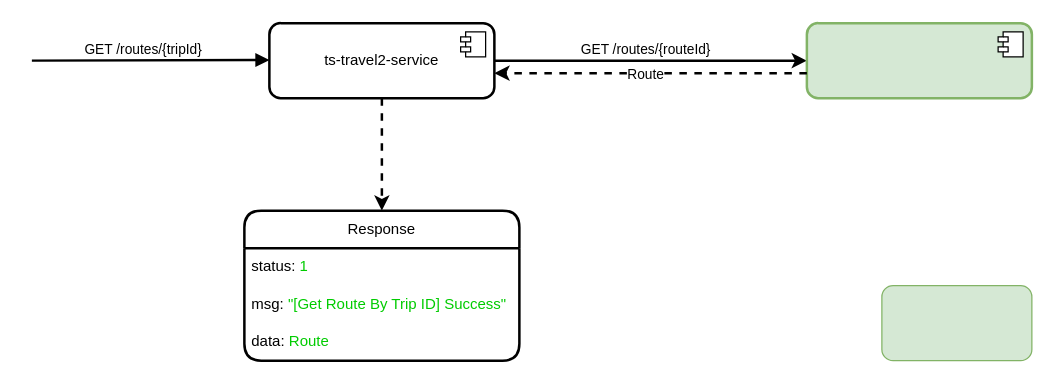
The diagram is 1054 pixels wide and 383 high, and some of its shapes have lost their labels. The shapes that lost their labels are listed below. From the top down, each one's centre as x and y in pixels, then its label:
point (918, 60): ts-route-service
point (956, 322): Service & Database
